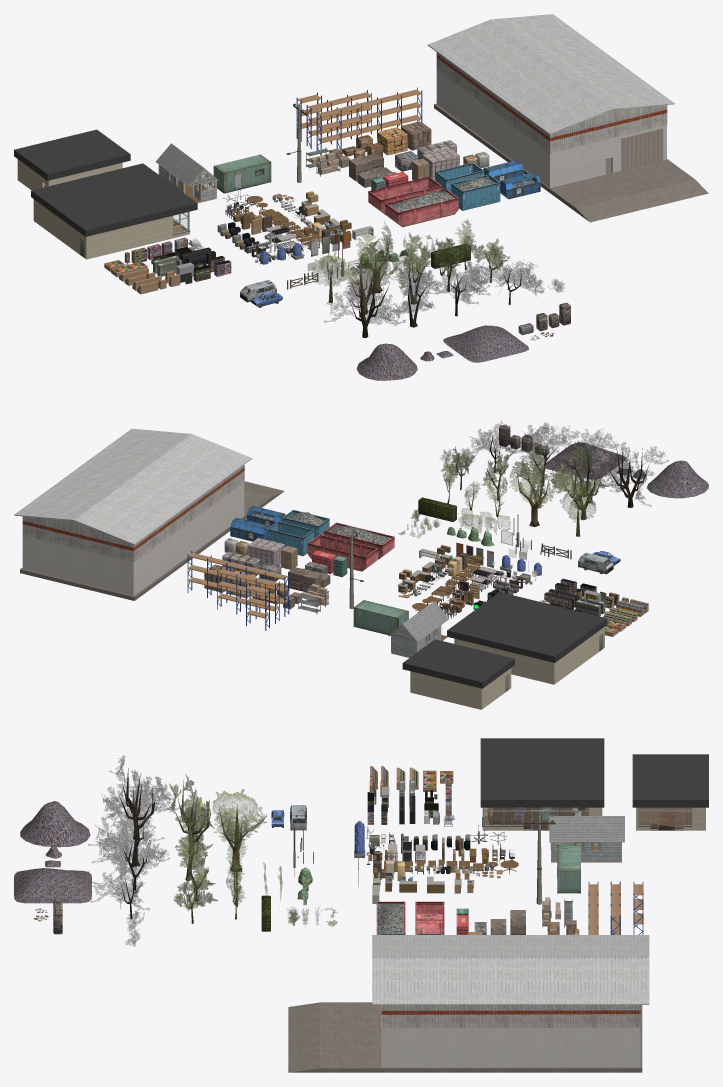
The model's file is big_kitbash.glb.
3 renders of one model, top to bottom at view 1: azimuth 30°, elevation 25°; view 2: azimuth 150°, elevation 25°; view 3: azimuth 270°, elevation 25°, orthographic. The views are drawn at different scales.
Parts seen in each view (by area): view 1: Cube.067, Cube.144, Cube.248, C.028, Arbol, B4, B.004, B1, Ca, Arbol3, Arbol2, Cube.072 (+20 smaller); view 2: Cube.067, Cube.144, Cube.248, Arbol, C.028, B4, Arbol6, B1, Arbol2, Ca, B.005, Arbol3 (+19 smaller); view 3: Cube.067, Cube.144, Cube.248, B4, Arbol, B1, Techo, Arbol3, Arbol2, Arbol13, Arbol6, Arbol4 (+10 smaller).
Boxes of the visible parts, x1=… form: Cube.067: x1=427, y1=14, x2=708, y2=222; Cube.144: x1=31, y1=163, x2=197, y2=259; Cube.248: x1=14, y1=129, x2=130, y2=190; C.028: x1=316, y1=87, x2=422, y2=155; Arbol: x1=324, y1=266, x2=406, y2=337; B4: x1=443, y1=325, x2=529, y2=362; B.004: x1=385, y1=189, x2=458, y2=227; B1: x1=356, y1=343, x2=417, y2=380; Ca: x1=213, y1=154, x2=271, y2=193; Arbol3: x1=429, y1=260, x2=498, y2=316; Arbol2: x1=390, y1=265, x2=439, y2=327; Cube.072: x1=622, y1=129, x2=662, y2=170; Cube.067: x1=14, y1=428, x2=284, y2=600; Cube.144: x1=447, y1=592, x2=607, y2=684; Cube.248: x1=402, y1=639, x2=514, y2=709; Arbol: x1=588, y1=442, x2=668, y2=507; C.028: x1=187, y1=550, x2=289, y2=616; B4: x1=545, y1=442, x2=625, y2=479; Arbol6: x1=549, y1=442, x2=608, y2=519; B1: x1=647, y1=460, x2=708, y2=498; Arbol2: x1=548, y1=428, x2=621, y2=496; Ca: x1=353, y1=600, x2=408, y2=635; B.005: x1=307, y1=534, x2=378, y2=571; Arbol3: x1=514, y1=422, x2=583, y2=486; Cube.067: x1=288, y1=935, x2=649, y2=1072; Cube.144: x1=480, y1=738, x2=604, y2=830; Cube.248: x1=632, y1=754, x2=708, y2=830; B4: x1=14, y1=868, x2=91, y2=903; Arbol: x1=106, y1=756, x2=183, y2=839; B1: x1=20, y1=801, x2=90, y2=847; Techo: x1=549, y1=816, x2=624, y2=842; Arbol3: x1=88, y1=818, x2=169, y2=890; Arbol2: x1=101, y1=786, x2=164, y2=866; Arbol13: x1=214, y1=804, x2=266, y2=871; Arbol6: x1=169, y1=774, x2=214, y2=853; Arbol4: x1=91, y1=854, x2=149, y2=919.
Size of the model in its own units: 64.09 by 9.44 by 62.8.
Materials: 167 (154 with a texture image).
